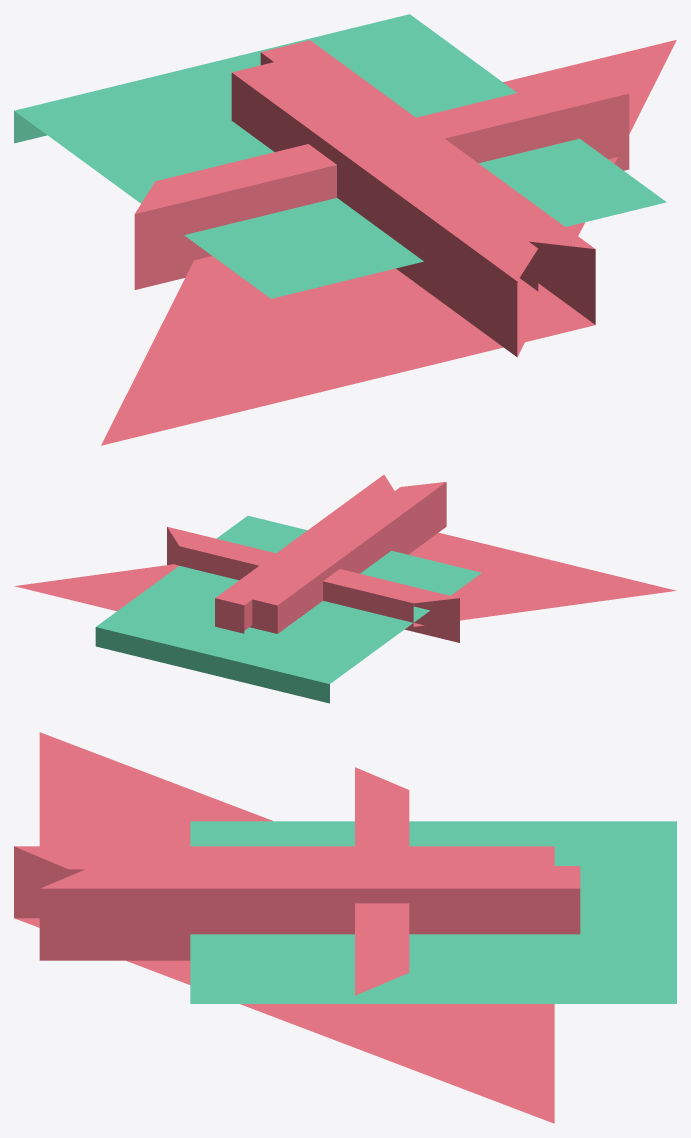
File: myEnd.fbx
3 views of the same model, one above another, from view 1: azimuth 30°, elevation 25°; view 2: azimuth 150°, elevation 25°; view 3: azimuth 270°, elevation 25° (orthographic). The views are drawn at different scales.
Parts seen in each view (by area): view 1: end.002, end, end.003, end.001; view 2: end, end.002, end.003, end.001; view 3: end.002, end, end.003, end.001.
Part boxes in pixels (x1,y1,x2,y2): end.002: (101, 40, 595, 445); end: (14, 14, 666, 298); end.003: (231, 40, 676, 357); end.001: (134, 84, 629, 289); end: (95, 515, 481, 703); end.002: (215, 474, 676, 633); end.003: (14, 482, 446, 633); end.001: (167, 526, 459, 642); end.002: (39, 732, 580, 960); end: (190, 821, 676, 1003); end.003: (14, 846, 554, 1123); end.001: (355, 767, 409, 995).
Bounding box in the file's own units: 771 × 79.24 × 552.
